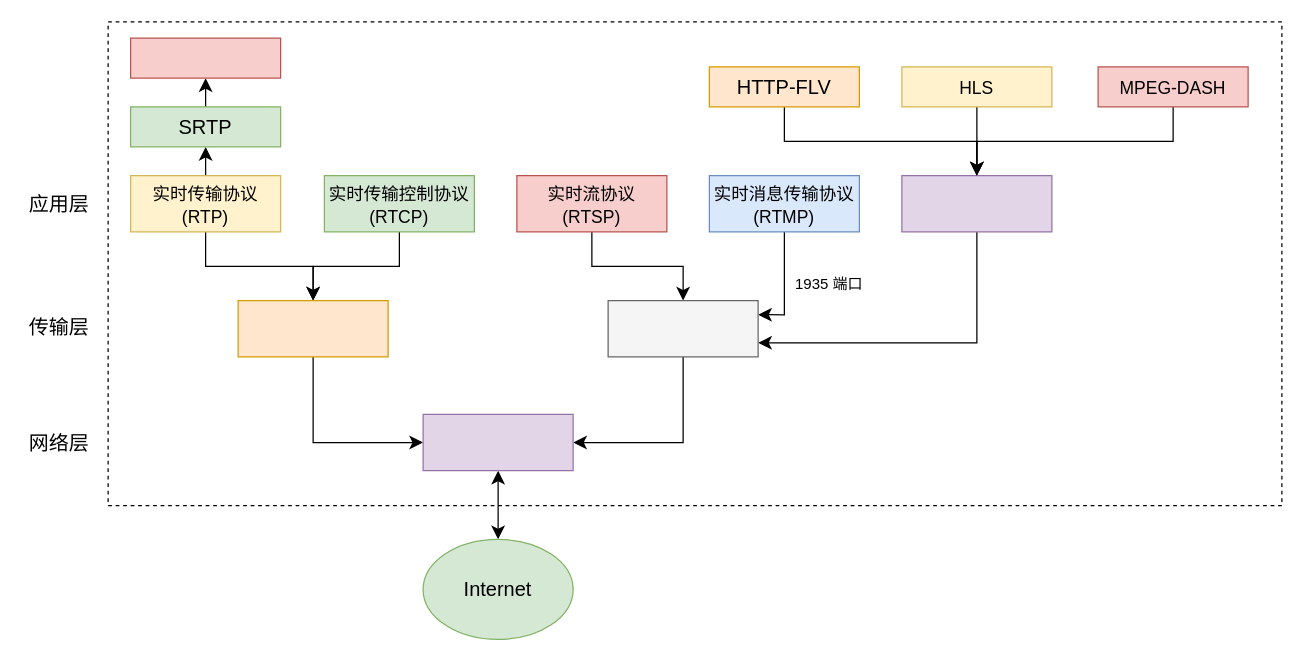
Some shapes in this 1304 by 661 pixel diagram are drawn without their labels. The shapes that lost their labels are listed below. From the top down, each one's centre as x and y in pixels, then its label:
At point 205,57: "WebRTC".
At point 976,203: "超文本传输协议(HTTP)".
At point 312,328: "UDP".
At point 682,328: "TCP".
At point 497,442: "IP".
